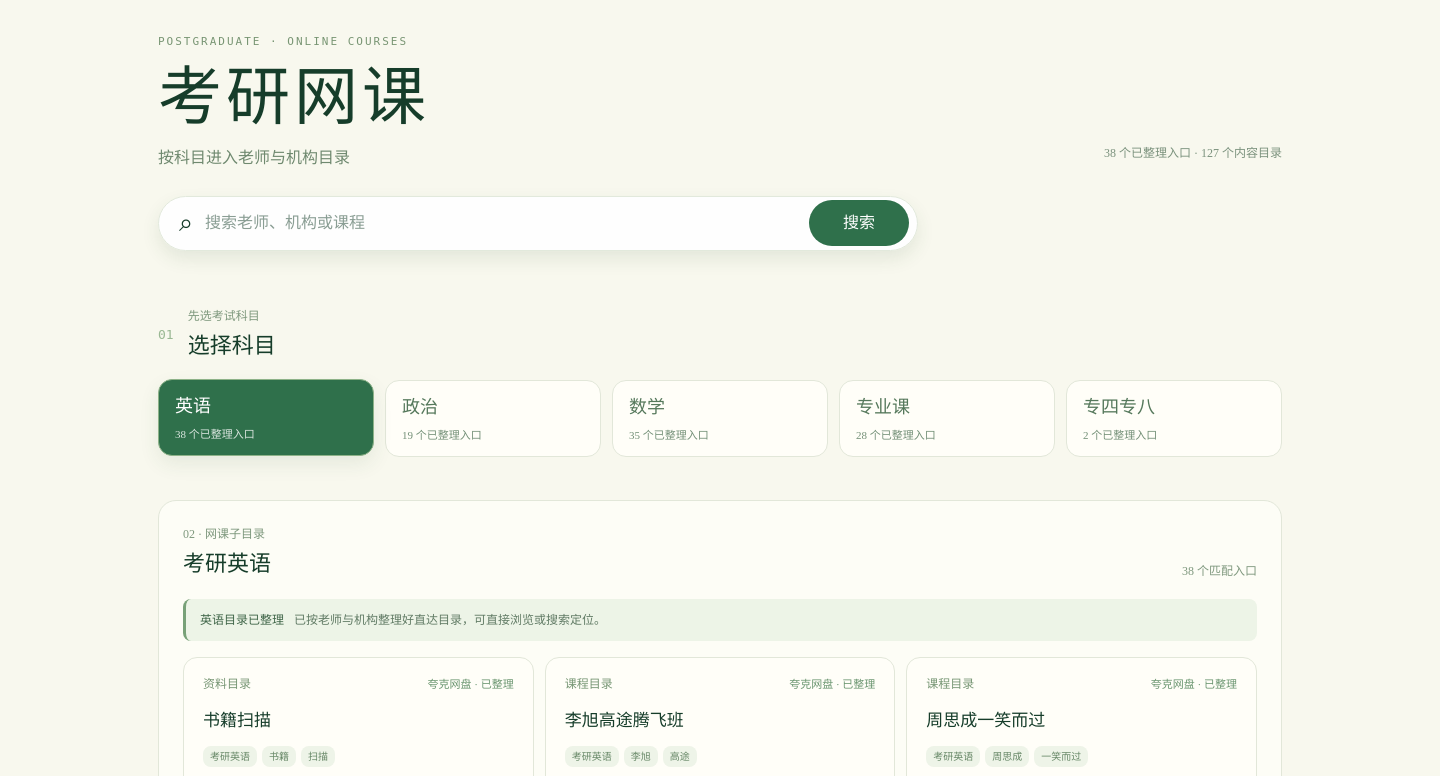
Test: postgraduate course pilot › switches to the next subject while keeping its own count and links
Step 1. Click the tab "政治 19 个已整理入口" → (493, 418), box [385,380,601,457]
(page scrolled)
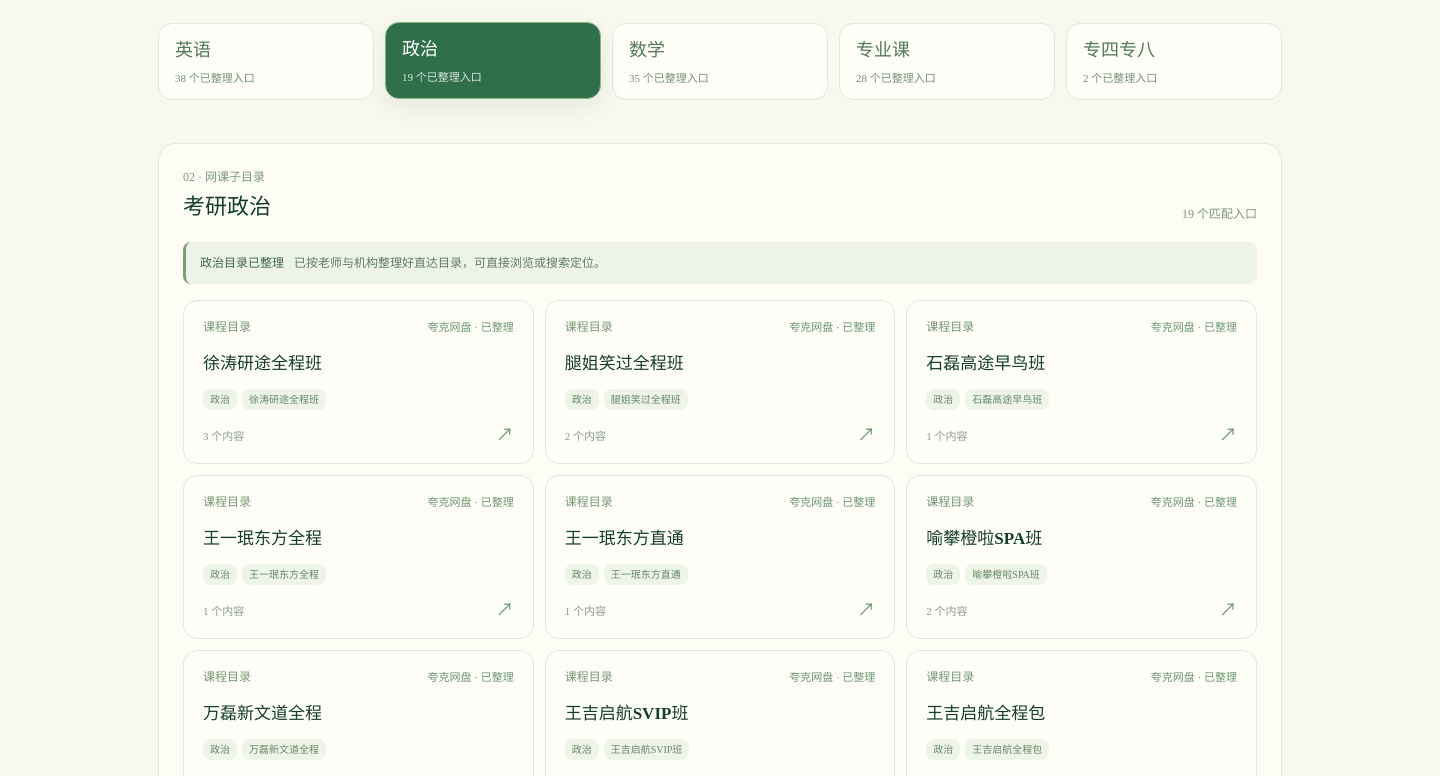
Expected: the text "19 个匹配入口" is shown, [1182,205,1257,223]
Expected: the number of links is 19
